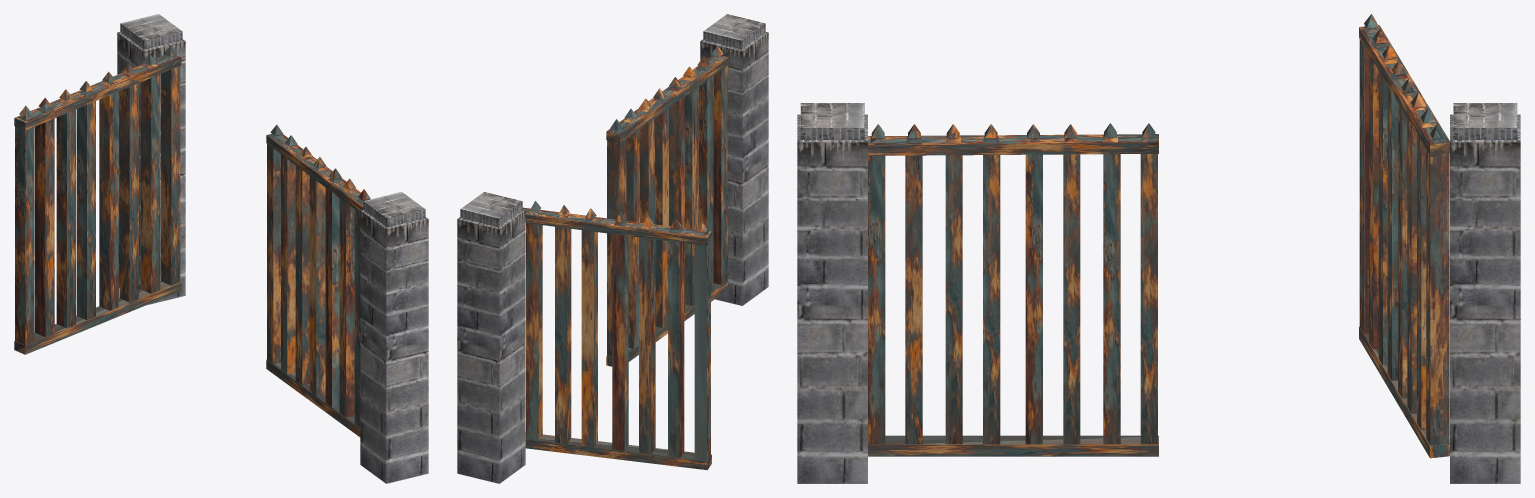
The model's file is Gate_new.fbx.
3 renders of one model, left to right at view 1: azimuth 30°, elevation 25°; view 2: azimuth 150°, elevation 25°; view 3: azimuth 270°, elevation 25°, orthographic. The views are drawn at different scales.
Parts seen in each view (by area): view 1: gate2; view 2: gate2; view 3: gate2.
Part boxes in pixels (left/top/right/bottom): gate2: left=14, top=14, right=428, bottom=483; gate2: left=457, top=14, right=768, bottom=483; gate2: left=797, top=14, right=1520, bottom=483.
Size of the model in its own units: 1094 by 1395 by 2578.
Materials: 2 (2 with a texture image).
